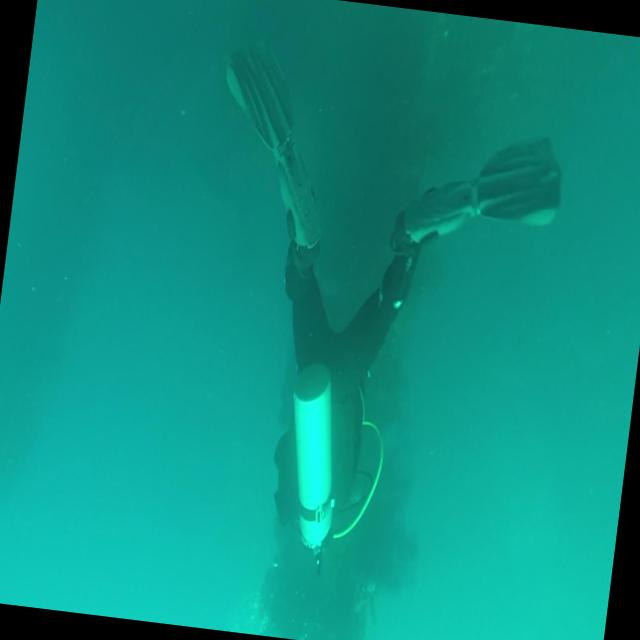human: (166, 36, 575, 587)
